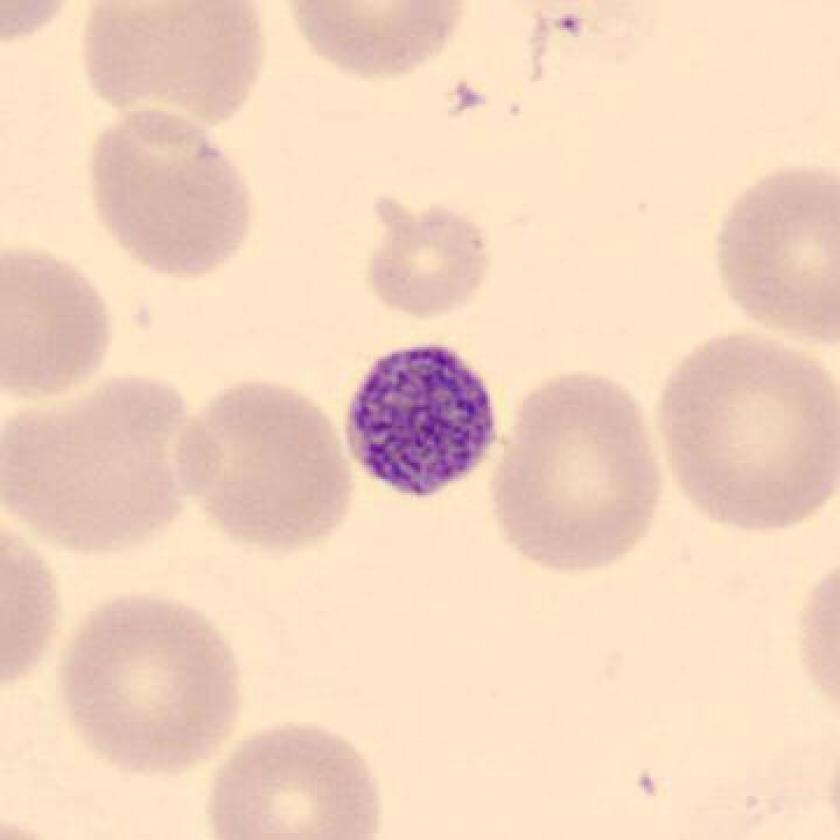platelets: (333, 332, 508, 510)
